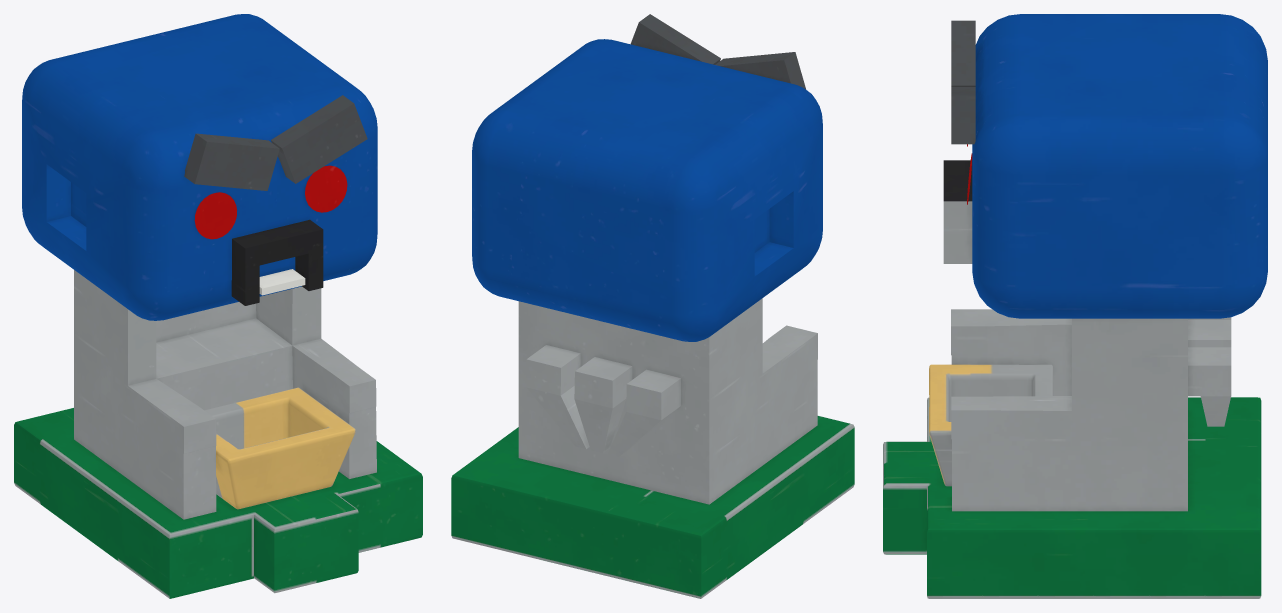
The picture shows the model from 3 angles, left to right: view 1: azimuth 30°, elevation 25°; view 2: azimuth 150°, elevation 25°; view 3: azimuth 270°, elevation 25°; orthographic projection. The views are drawn at different scales.
Visible parts, largest first — view 1: LegoStatue_Game; view 2: LegoStatue_Game; view 3: LegoStatue_Game.
Boxes of the visible parts, x1=… form: LegoStatue_Game: x1=14, y1=14, x2=422, y2=598; LegoStatue_Game: x1=451, y1=14, x2=854, y2=598; LegoStatue_Game: x1=883, y1=14, x2=1267, y2=598.
Bounding box in the file's own units: 0.7516 × 1.2 × 0.8816.
1 material, 1 textured.
